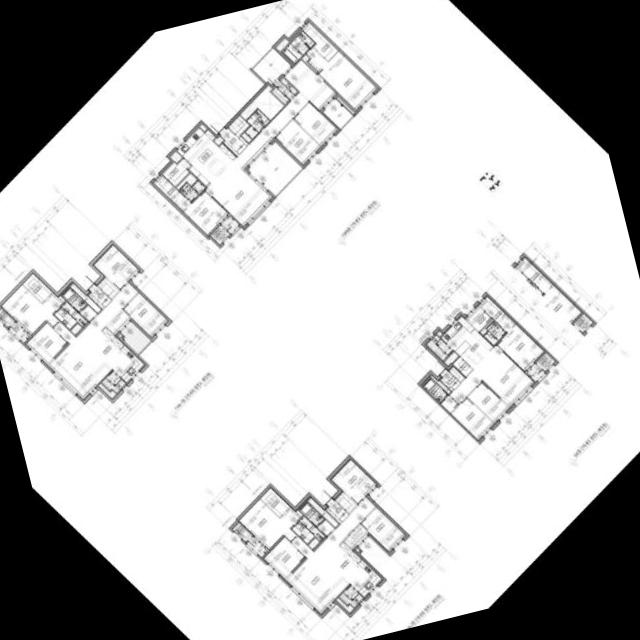background: (0, 0, 640, 640)
space_balconi: (247, 140, 301, 195), (252, 47, 290, 83), (121, 322, 150, 353), (322, 98, 352, 127), (426, 334, 452, 360), (271, 77, 297, 103), (338, 584, 362, 606), (101, 370, 125, 392), (246, 536, 267, 556), (9, 321, 29, 342), (221, 215, 239, 233), (527, 362, 544, 380)
space_bedroom: (306, 46, 376, 109), (238, 498, 300, 548), (1, 284, 63, 334), (171, 190, 227, 234), (330, 457, 376, 503), (93, 243, 138, 289), (122, 291, 167, 336), (360, 506, 405, 550), (275, 119, 320, 163), (293, 102, 336, 145), (451, 397, 493, 439), (25, 322, 67, 363), (263, 536, 304, 577), (467, 381, 508, 421)
space_dressroom: (301, 21, 337, 60), (22, 272, 52, 302), (260, 487, 289, 516), (479, 296, 504, 321), (153, 174, 178, 198)
space_front: (218, 126, 248, 154), (325, 498, 349, 522), (440, 366, 464, 390), (88, 285, 111, 307)
space_kitchen: (176, 126, 235, 185), (87, 326, 143, 381), (325, 541, 381, 596), (440, 315, 492, 368)
space_living_room: (205, 58, 335, 225), (48, 281, 138, 398), (286, 496, 375, 612), (449, 344, 533, 405)
space_other: (496, 314, 543, 370), (240, 84, 284, 119), (307, 496, 338, 526), (70, 282, 100, 312), (162, 157, 189, 185), (465, 305, 491, 330), (105, 308, 130, 334), (343, 523, 368, 548), (334, 490, 356, 512), (228, 114, 249, 136), (97, 277, 118, 297), (452, 356, 472, 375), (430, 374, 450, 393), (440, 394, 458, 412), (336, 95, 354, 113), (176, 172, 196, 188), (97, 382, 116, 398), (317, 518, 334, 535), (79, 304, 96, 321), (335, 596, 353, 611), (301, 53, 316, 71), (480, 318, 493, 334), (444, 351, 458, 364), (276, 37, 288, 50), (170, 150, 181, 162), (241, 131, 251, 141), (213, 135, 223, 144), (57, 294, 65, 301), (295, 508, 302, 515), (199, 123, 206, 130), (436, 330, 442, 336), (355, 547, 359, 551), (118, 333, 122, 336)
space_outdoor_room: (209, 224, 229, 244), (232, 521, 251, 541), (535, 351, 554, 370), (0, 307, 14, 326)
space_toilet: (291, 515, 324, 548), (53, 301, 86, 334), (282, 30, 314, 63), (245, 108, 269, 138), (299, 501, 324, 526), (422, 377, 447, 401), (61, 287, 86, 311), (179, 180, 204, 201), (484, 320, 505, 344)
